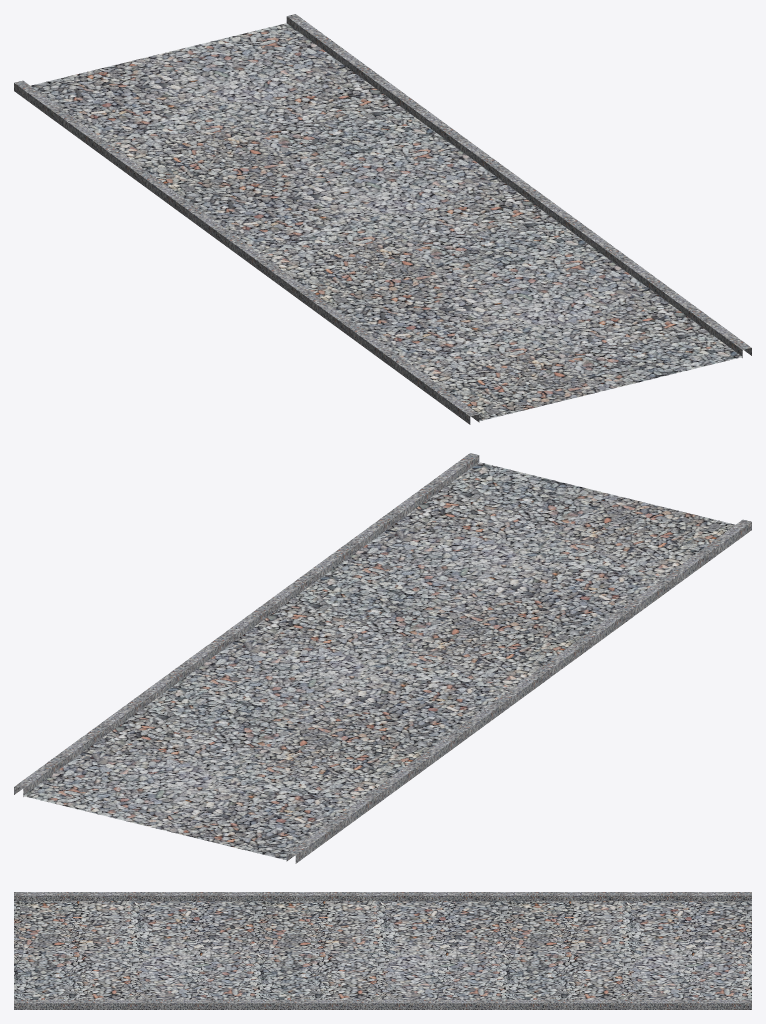
The model's file is road.fbx.
The picture shows the model from 3 angles, top to bottom: view 1: azimuth 30°, elevation 25°; view 2: azimuth 150°, elevation 25°; view 3: azimuth 270°, elevation 25°; orthographic projection. The views are drawn at different scales.
Parts seen in each view (by area): view 1: Street1Lane30m; view 2: Street1Lane30m; view 3: Street1Lane30m.
Part boxes in pixels (bbox=[...]): Street1Lane30m: bbox=[14, 14, 751, 424]; Street1Lane30m: bbox=[14, 453, 751, 863]; Street1Lane30m: bbox=[14, 892, 751, 1009].
Size of the model in its own units: 1070 by 30 by 3000.
